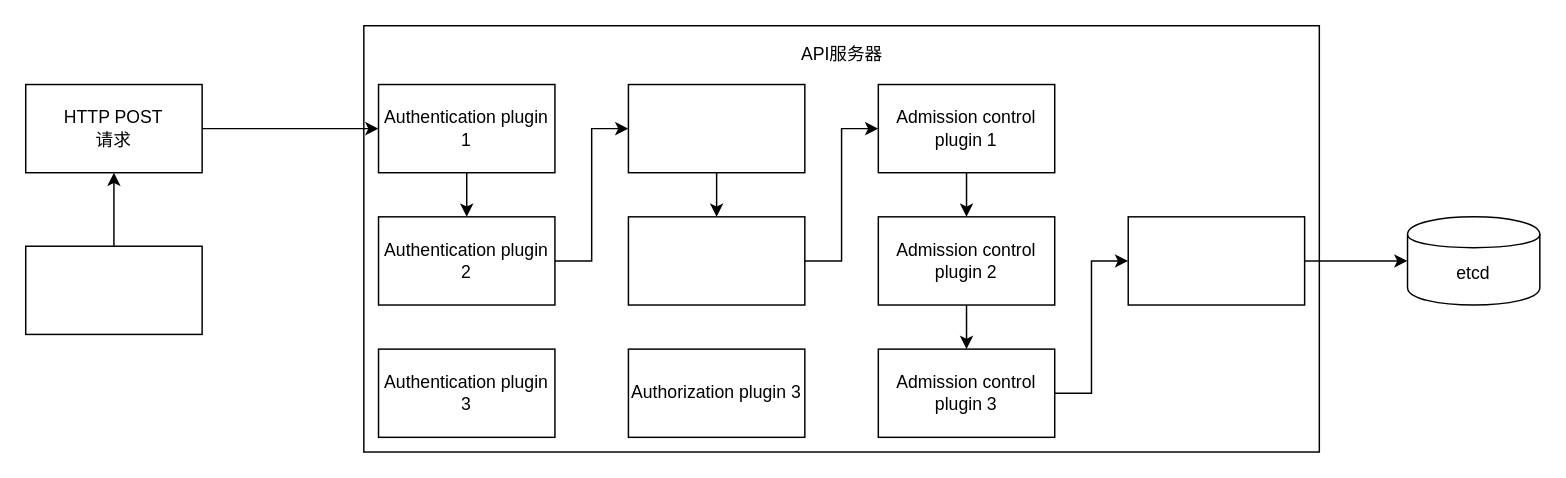
The diagram is 1566 pixels wide and 478 high, and some of its shapes have lost their labels. The shapes that lost their labels are listed below. From the top down, each one's centre as x and y in pixels, then its label:
At point 716,128: "Authorization plugin 1".
At point 716,260: "Authorization plugin 2".
At point 1216,260: "资源验证".
At point 113,289: "客户端 （kubectl）".
